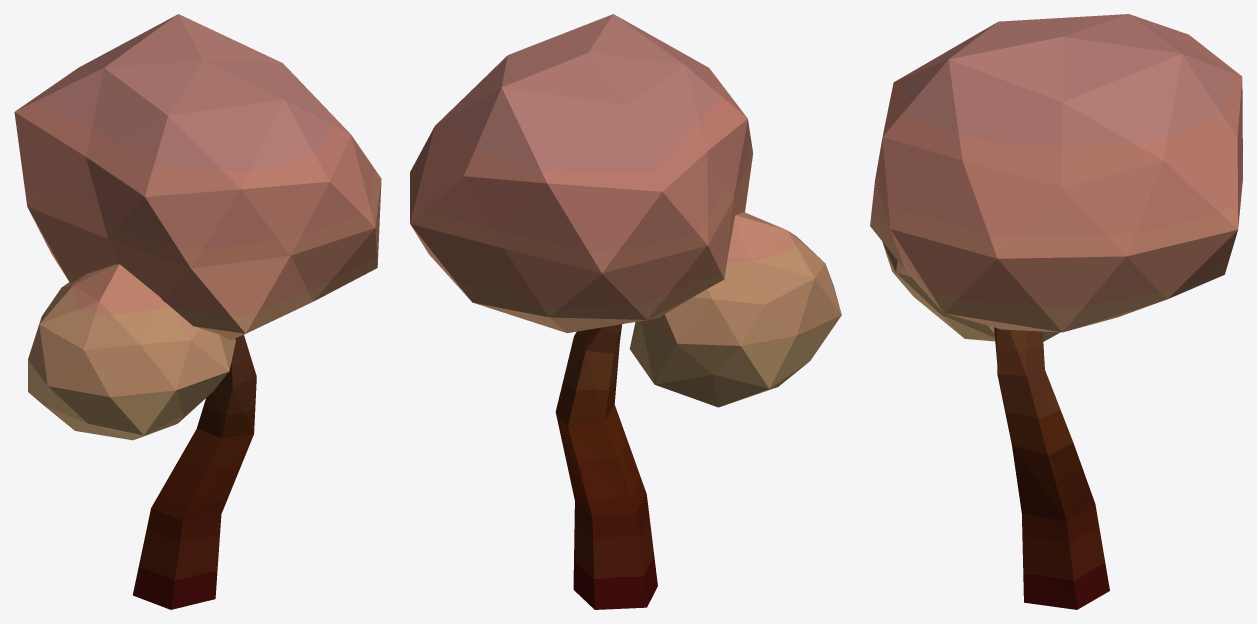
The model's file is prop_tc_stylized_tree.glb.
3 views of the same model, side by side, from view 1: azimuth 30°, elevation 25°; view 2: azimuth 150°, elevation 25°; view 3: azimuth 270°, elevation 25° (orthographic). The views are drawn at different scales.
Parts seen in each view (by area): view 1: LeafTree_3; view 2: LeafTree_3; view 3: LeafTree_3.
Boxes of the visible parts, left/top/right/bottom form: LeafTree_3: left=14, top=14, right=381, bottom=609; LeafTree_3: left=410, top=14, right=841, bottom=609; LeafTree_3: left=870, top=14, right=1242, bottom=609.
Size of the model in its own units: 1.06 by 1.51 by 0.8976.
Materials: 1 (1 with a texture image).
